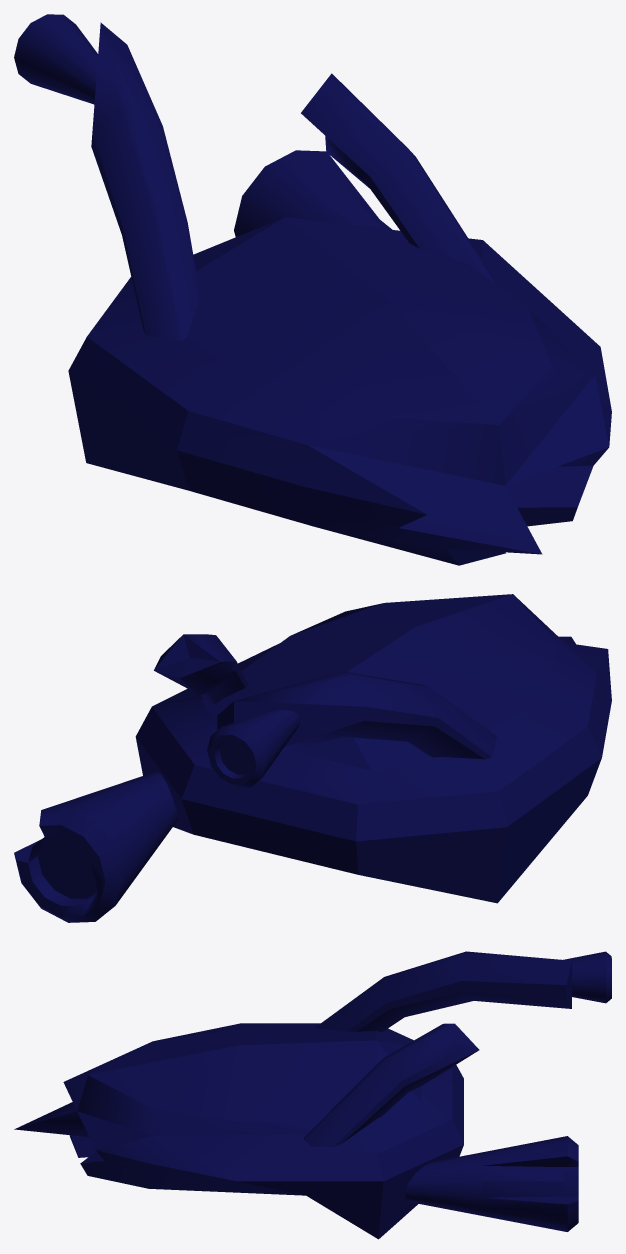
File: crashed plane bg.fbx
3 views of the same model, one above another, from view 1: azimuth 30°, elevation 25°; view 2: azimuth 150°, elevation 25°; view 3: azimuth 270°, elevation 25° (orthographic). The views are drawn at different scales.
Visible parts, largest first — view 1: Cylinder; view 2: Cylinder; view 3: Cylinder.
Part boxes in pixels (box(x1,y1,x2,y2)): Cylinder: box(14, 14, 611, 565); Cylinder: box(14, 594, 611, 922); Cylinder: box(14, 951, 611, 1239).
Bounding box in the file's own units: 262 × 178 × 472.
1 material, 1 textured.
